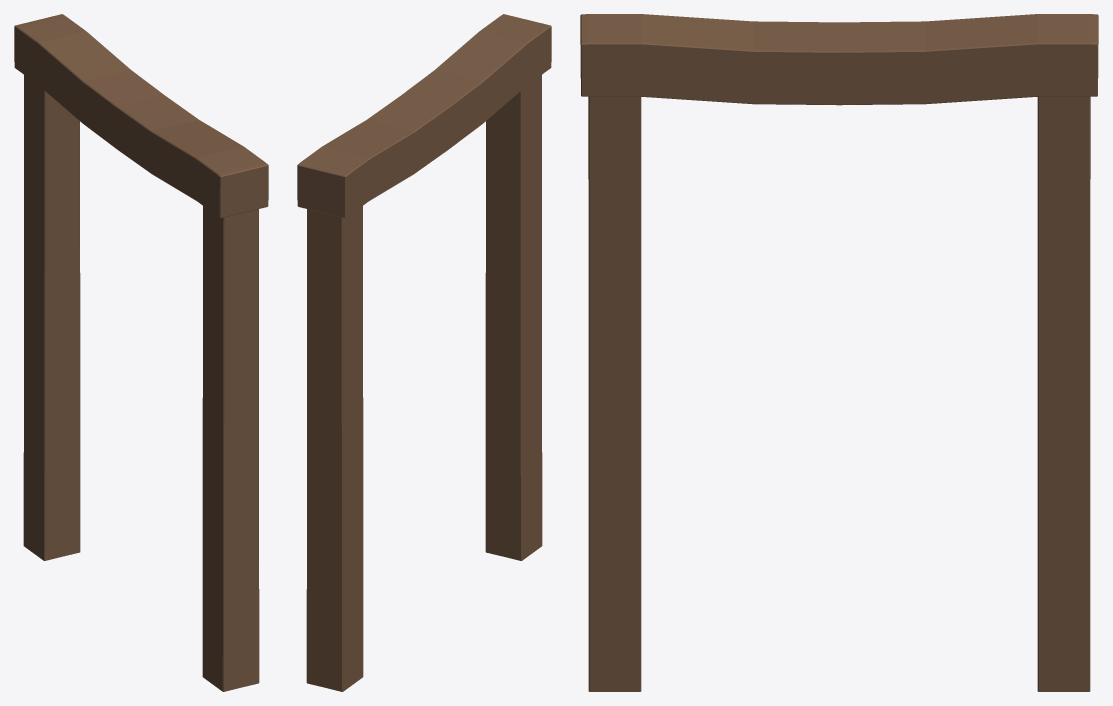
Rendered from present_door_frame.fbx.
The picture shows the model from 3 angles, left to right: view 1: azimuth 30°, elevation 25°; view 2: azimuth 150°, elevation 25°; view 3: azimuth 270°, elevation 25°; orthographic projection. The views are drawn at different scales.
Visible parts, largest first — view 1: Cube; view 2: Cube; view 3: Cube.
Part boxes in pixels (left/top/right/bottom): Cube: left=14, top=14, right=268, bottom=691; Cube: left=297, top=14, right=551, bottom=691; Cube: left=580, top=14, right=1098, bottom=691.
Size of the model in its own units: 51.58 by 525 by 378.
